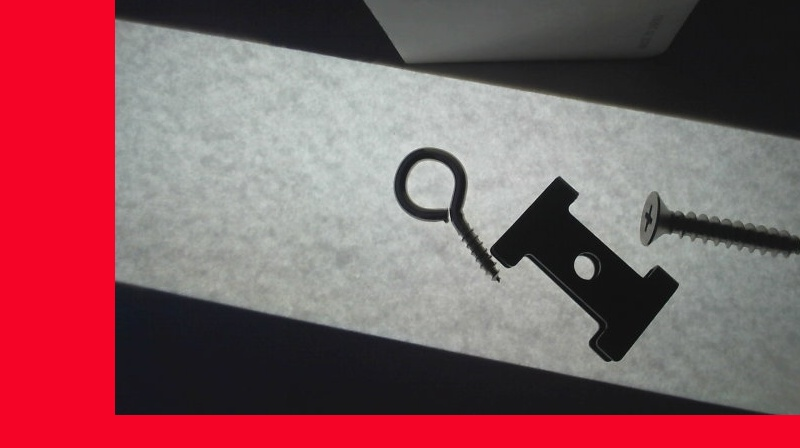O001: (391, 144, 502, 283)
O002: (488, 175, 678, 364)
S001: (639, 188, 799, 259)
